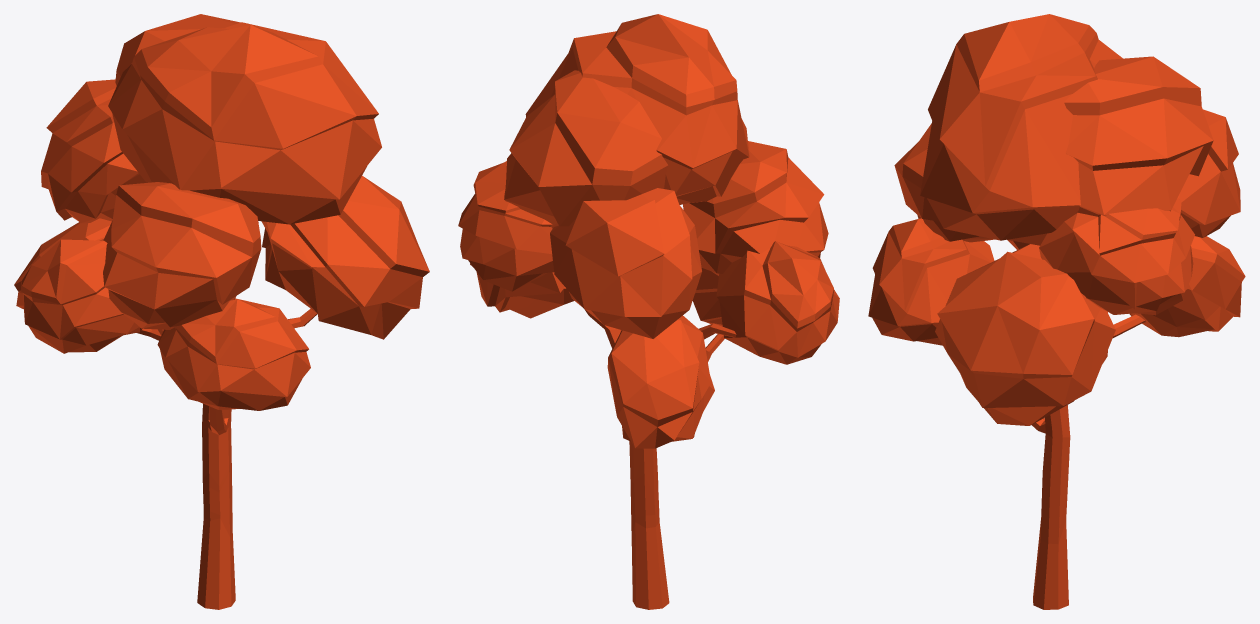
Rendered from first.paint.glb.
3 views of the same model, side by side, from view 1: azimuth 30°, elevation 25°; view 2: azimuth 150°, elevation 25°; view 3: azimuth 270°, elevation 25° (orthographic). The views are drawn at different scales.
Visible parts, largest first — view 1: PP_Birch_Tree_06.001; view 2: PP_Birch_Tree_06.001; view 3: PP_Birch_Tree_06.001.
Boxes of the visible parts, box(x1,y1,x2,y2) form: PP_Birch_Tree_06.001: box(14, 14, 429, 609); PP_Birch_Tree_06.001: box(458, 14, 839, 609); PP_Birch_Tree_06.001: box(868, 14, 1245, 609).
Size of the model in its own units: 5.89 by 8.86 by 5.16.
